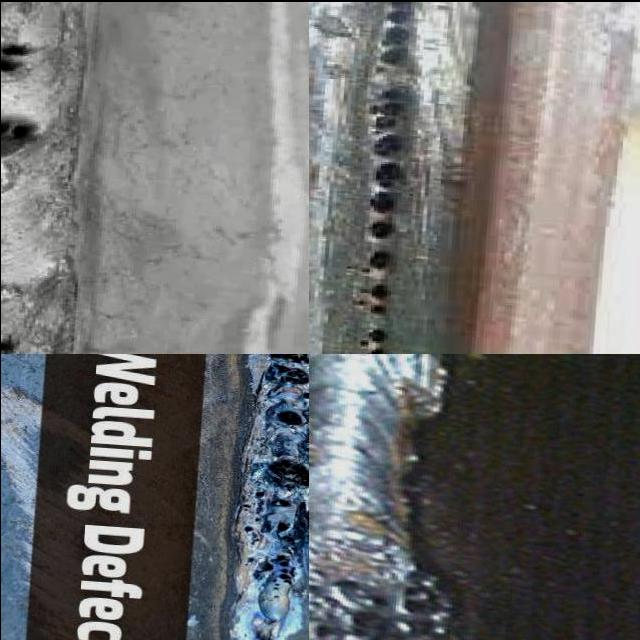defect: (357, 0, 423, 315), (308, 565, 448, 640), (243, 549, 298, 603), (0, 33, 46, 74), (263, 454, 308, 491), (0, 114, 44, 146), (355, 321, 391, 352), (274, 519, 299, 545), (0, 330, 27, 352), (278, 407, 308, 426), (294, 497, 308, 529), (268, 497, 292, 506), (248, 535, 261, 544), (237, 501, 252, 508), (250, 514, 264, 521), (243, 524, 255, 532), (253, 490, 266, 497), (302, 389, 308, 399)
